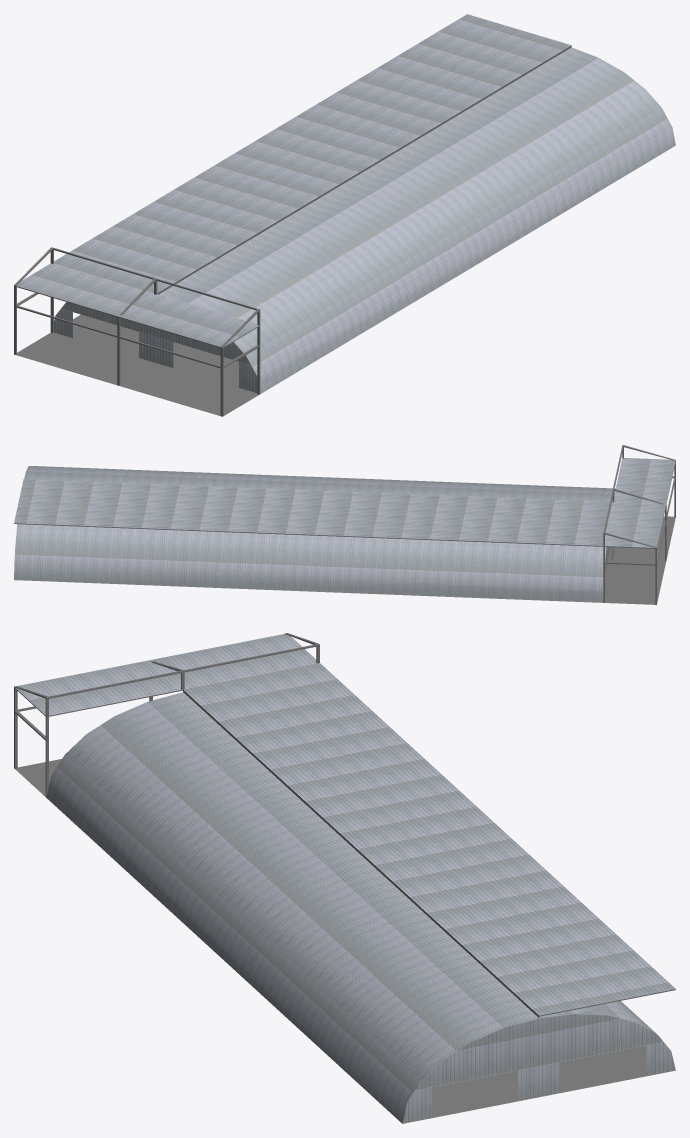
The picture shows the model from 3 angles, top to bottom: view 1: azimuth 30°, elevation 25°; view 2: azimuth 150°, elevation 25°; view 3: azimuth 270°, elevation 25°; orthographic projection. The views are drawn at different scales.
Parts seen in each view (by area): view 1: D棟; view 2: D棟; view 3: D棟.
Part boxes in pixels (box(x1,y1,x2,y2)): D棟: box(14, 14, 675, 416); D棟: box(14, 445, 675, 604); D棟: box(14, 633, 675, 1123).
Bounding box in the file's own units: 27.64 × 3.15 × 18.9.
2 materials, 1 textured.
